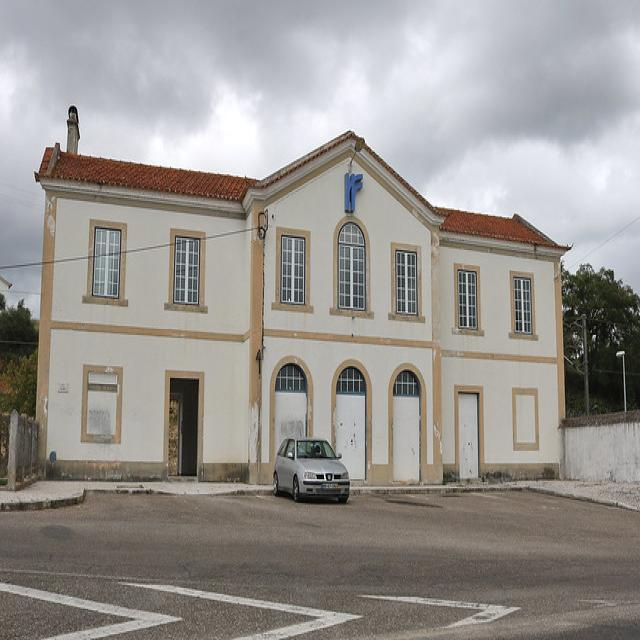building: (31, 126, 572, 484)
